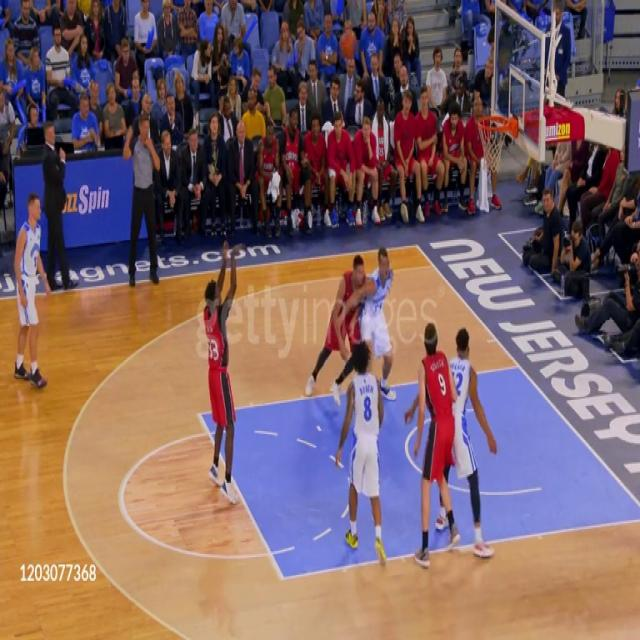ball: (339, 28, 358, 62)
